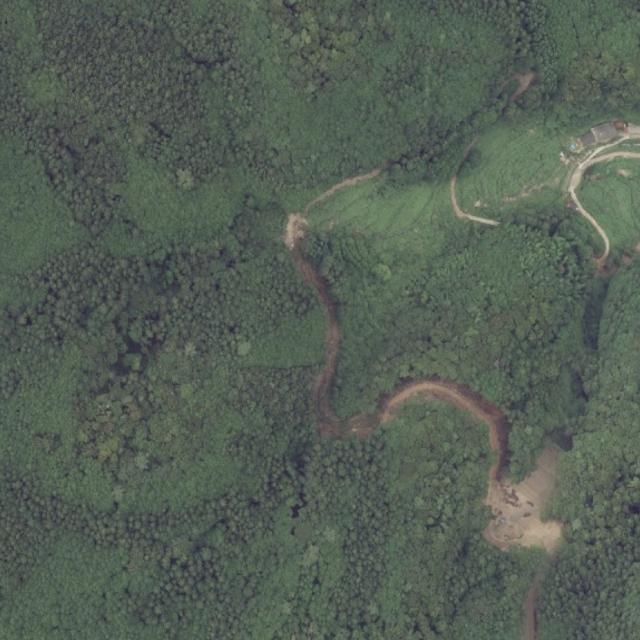landslide: (484, 446, 563, 554)
